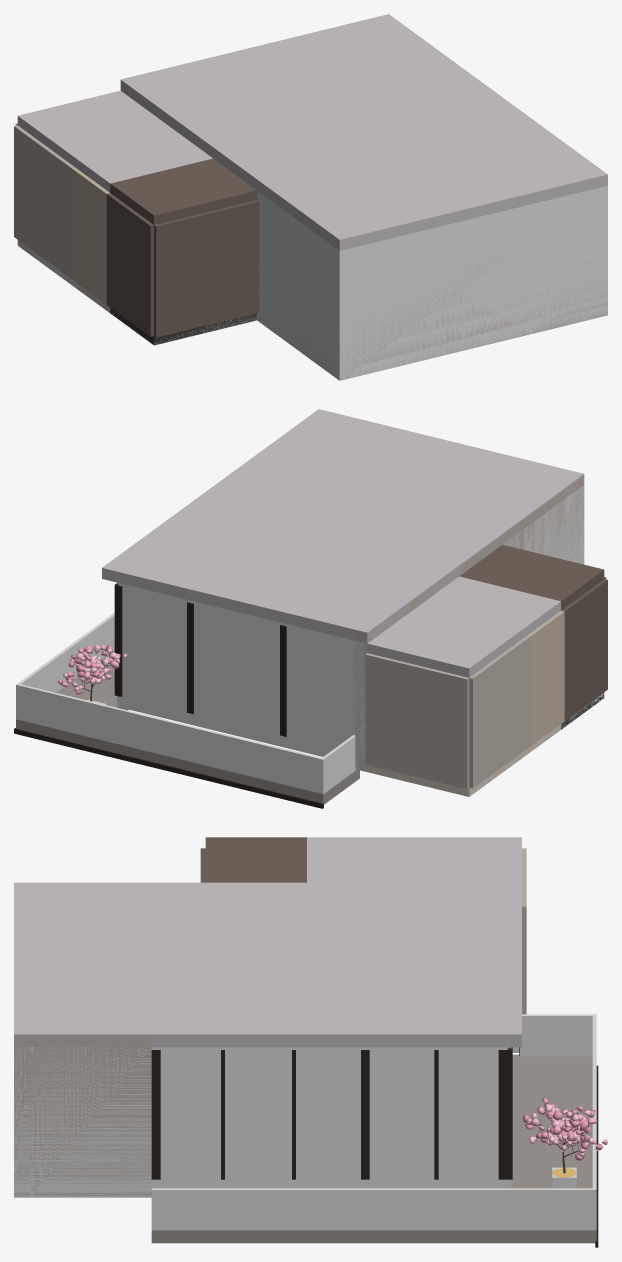
File: wellness_world_penthouse_v8.glb
3 renders of one model, top to bottom at view 1: azimuth 30°, elevation 25°; view 2: azimuth 150°, elevation 25°; view 3: azimuth 270°, elevation 25°, orthographic. The views are drawn at different scales.
Visible parts, largest first — view 1: WW_Ceiling, WW_COL_Walls, WW_Adjoining_Rooms, WW_Walls, WW_COL_Floor; view 2: WW_Ceiling, WW_Adjoining_Rooms, WW_COL_Glass, WW_COL_Balcony, WW_Balcony, WW_Walls, WW_COL_Walls, WW_Window_Frames, WW_Blossom_Tree_Blossoms, WW_COL_Floor; view 3: WW_Ceiling, WW_COL_Glass, WW_COL_Balcony, WW_Walls, WW_COL_Walls, WW_Adjoining_Rooms, WW_Balcony, WW_Window_Frames, WW_Blossom_Tree_Blossoms.
Boxes of the visible parts, <box> form: WW_Ceiling: <box>120,14,607,250</box>; WW_COL_Walls: <box>257,185,607,380</box>; WW_Adjoining_Rooms: <box>14,90,259,345</box>; WW_Walls: <box>120,83,607,380</box>; WW_COL_Floor: <box>18,242,256,344</box>; WW_Ceiling: <box>102,409,584,643</box>; WW_Adjoining_Rooms: <box>365,544,607,796</box>; WW_COL_Glass: <box>117,582,355,756</box>; WW_COL_Balcony: <box>16,613,355,794</box>; WW_Balcony: <box>14,650,359,808</box>; WW_Walls: <box>355,476,584,771</box>; WW_COL_Walls: <box>355,485,584,771</box>; WW_Window_Frames: <box>114,583,286,736</box>; WW_Blossom_Tree_Blossoms: <box>58,644,127,694</box>; WW_COL_Floor: <box>367,693,604,795</box>; WW_Ceiling: <box>14,882,521,1048</box>; WW_COL_Glass: <box>151,1047,511,1188</box>; WW_COL_Balcony: <box>151,1014,596,1230</box>; WW_Walls: <box>14,1036,518,1197</box>; WW_COL_Walls: <box>14,1047,519,1197</box>; WW_Adjoining_Rooms: <box>200,837,526,1014</box>; WW_Balcony: <box>151,1047,598,1247</box>; WW_Window_Frames: <box>151,1047,512,1179</box>; WW_Blossom_Tree_Blossoms: <box>522,1098,607,1161</box>.
Bounding box in the file's own units: 14.22 × 4.95 × 14.67.
